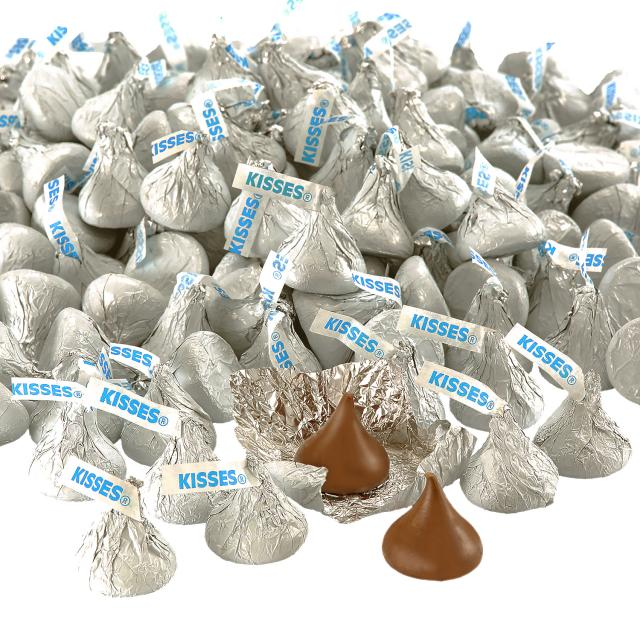kisses: (66, 474, 180, 596), (201, 442, 310, 566), (267, 184, 368, 300), (28, 394, 133, 494), (540, 372, 629, 489), (139, 410, 228, 524), (137, 133, 233, 237), (470, 410, 563, 517), (120, 364, 228, 446), (24, 182, 121, 273), (284, 74, 369, 174), (434, 250, 535, 332), (2, 263, 82, 366), (448, 171, 540, 259), (333, 164, 418, 258), (346, 300, 447, 376), (73, 267, 171, 345), (71, 129, 152, 222), (169, 332, 253, 416), (537, 133, 635, 204), (392, 88, 471, 175), (75, 74, 160, 148), (395, 260, 451, 336), (595, 311, 640, 401), (0, 374, 33, 450)
